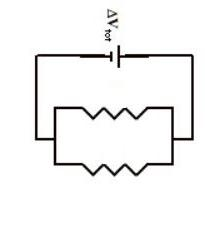resistor: (72, 152, 149, 185), (73, 93, 145, 126)
